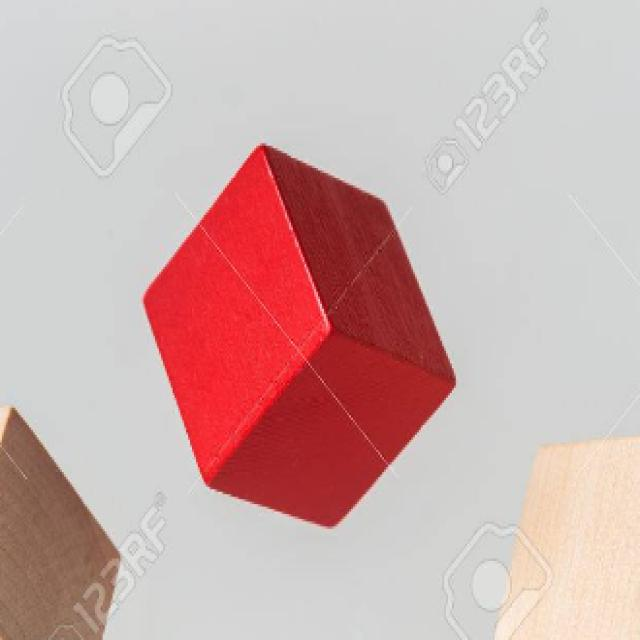red cube: (139, 139, 462, 529)
